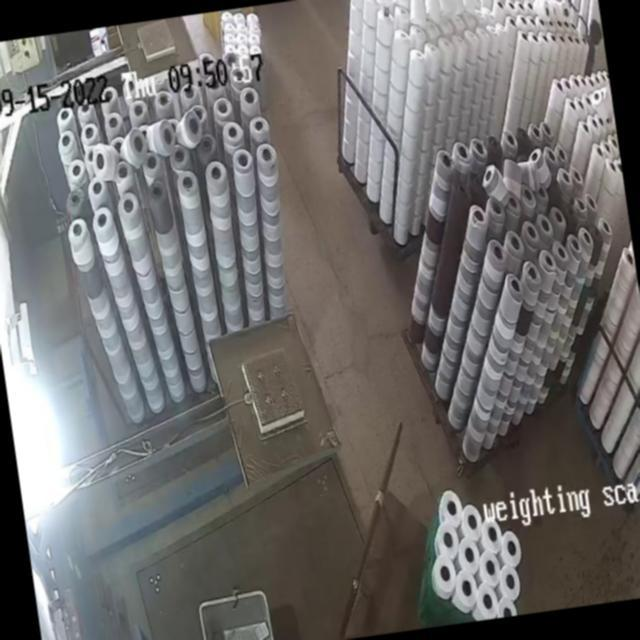person: (580, 12, 606, 70)
